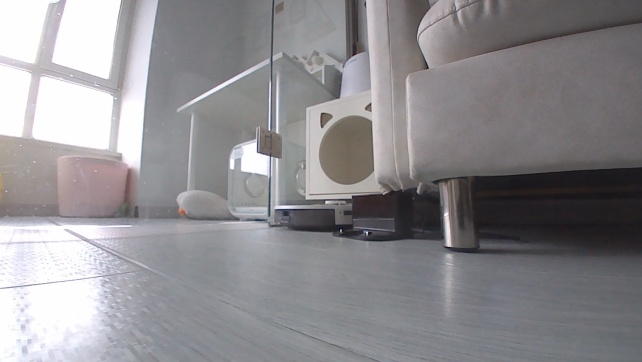charger: (331, 189, 416, 242)
sofa1: (361, 0, 641, 252)
